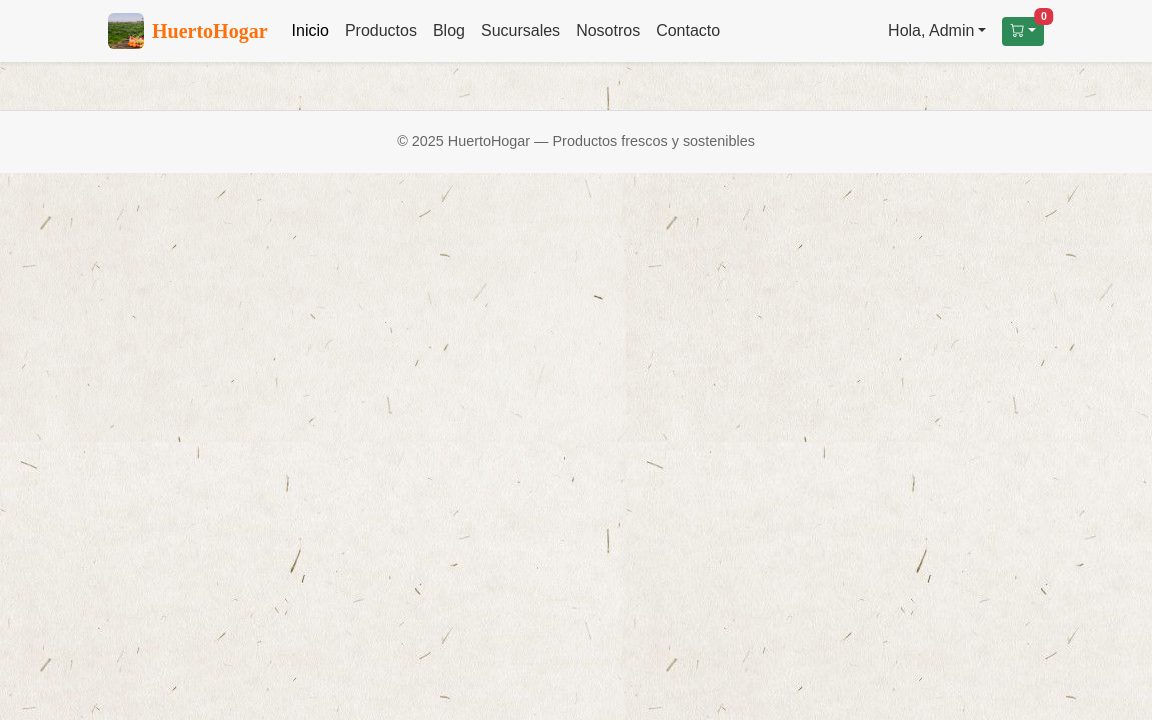
Test: Componente: Layout (Navbar) › debe mostrar "Hola, Admin" y "Panel de Admin" para un admin logueado
The width and height of the screenshot is (1152, 720).
What coordinates should you click on to do the following:
click the button "Hola, Admin"
I would click on:
 (937, 31)
Its box is [880,11,994,51].
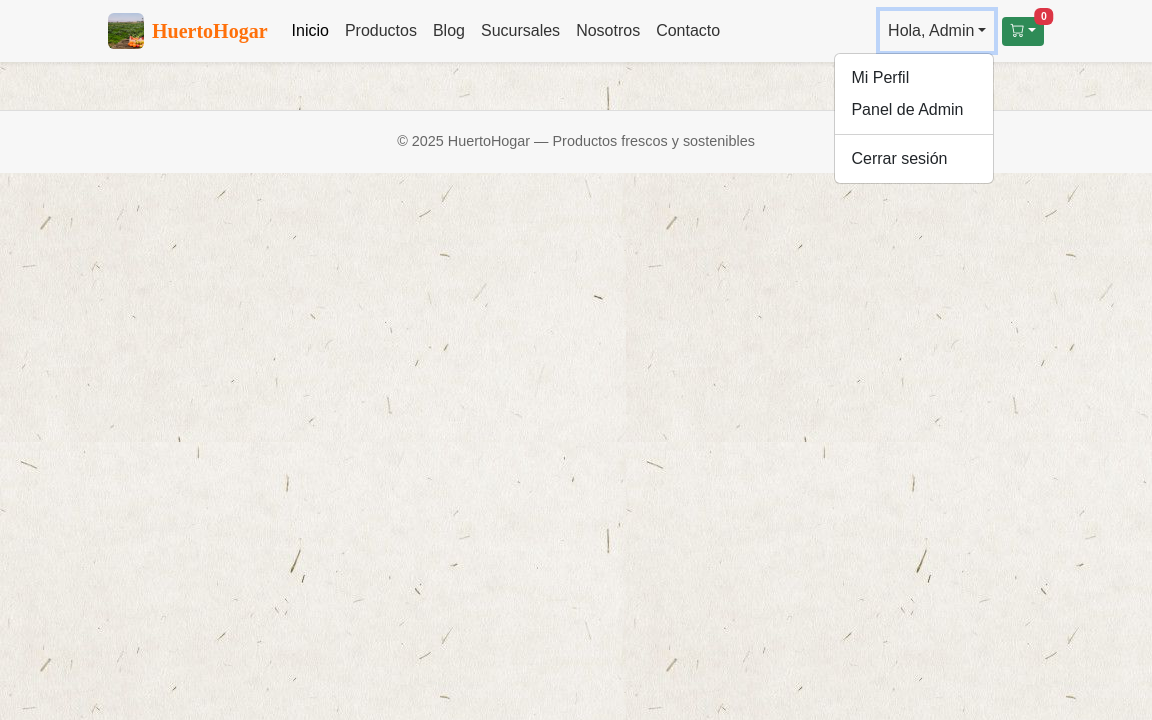
Now the button "Panel de Admin" is shown, box [851,101,964,118]
